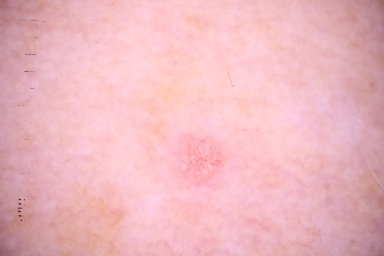melanoma: (177, 135, 222, 186)
